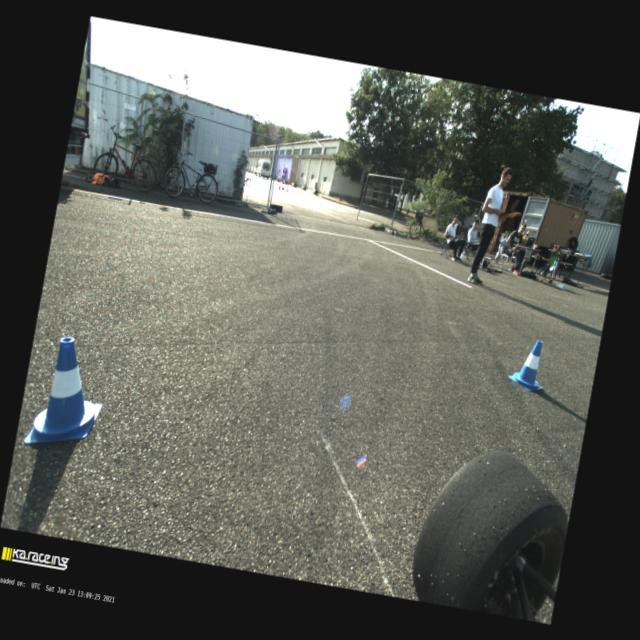blue_cone: (24, 332, 113, 454), (506, 336, 551, 394)
yellow_cone: (522, 230, 529, 240)
